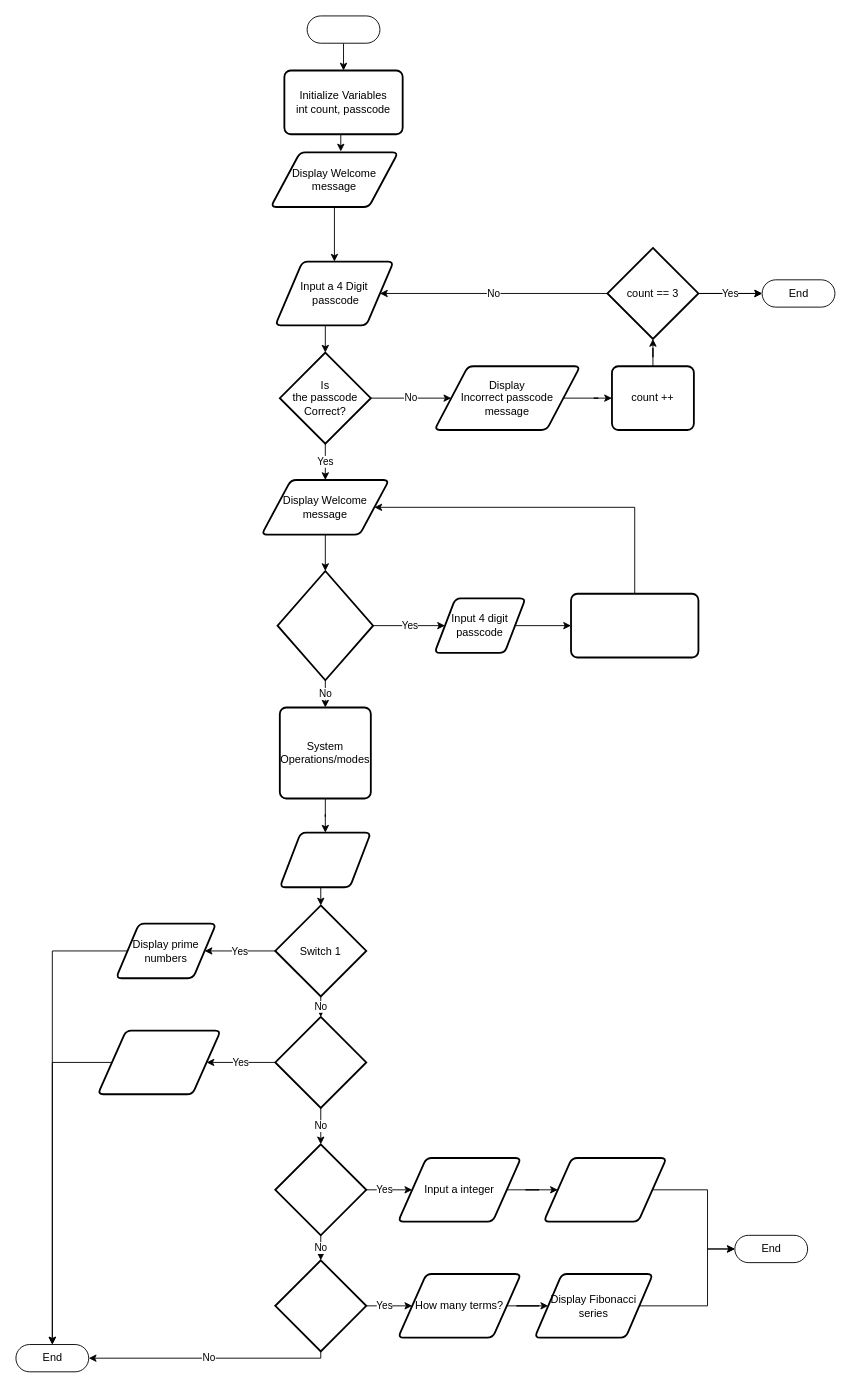
Image size: 851x1388. Some labels were removed from this diagram. Here are the shapes that lost their labels. From the top down, the centre of each, then its label:
(343,29): Start
(325,625): Do you want to change passcode?
(634,625): Change password
(324,859): Input switch
(158,1062): Display composite numbers
(320,1062): Switch 2
(320,1189): Switch 3
(604,1189): Ilustrates power of 2 operation
(320,1305): Switch 4
